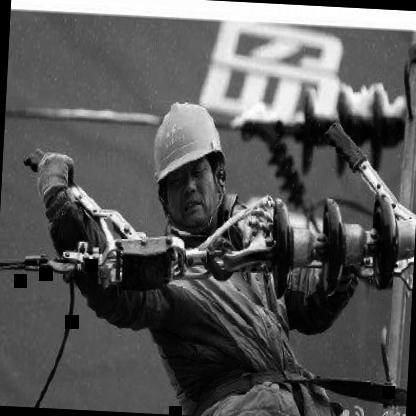helmet: (141, 89, 234, 241)
